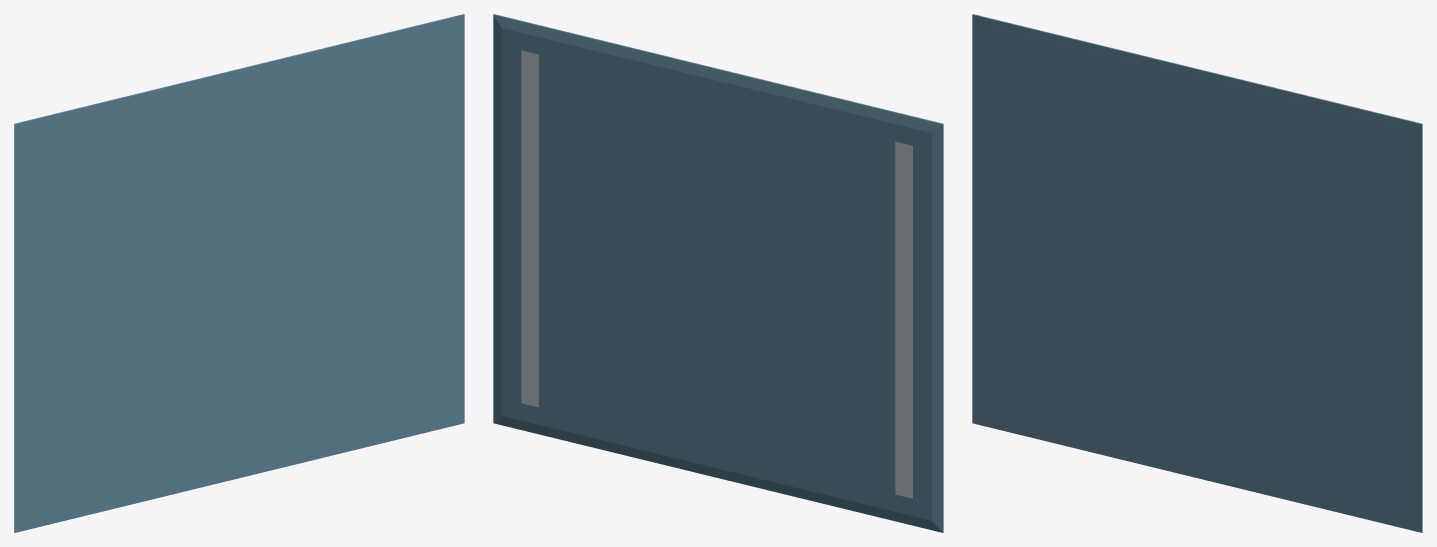
The model's file is Prop_mirror1.FBX.
3 renders of one model, left to right at view 1: azimuth 30°, elevation 25°; view 2: azimuth 150°, elevation 25°; view 3: azimuth 330°, elevation 25°, orthographic.
Visible parts, largest first — view 1: Mirror; view 2: Mirror; view 3: Mirror.
Boxes of the visible parts, x1,y1,x2,y2 form: Mirror: [14, 14, 464, 532]; Mirror: [493, 14, 943, 532]; Mirror: [972, 14, 1422, 532].
Size of the model in its own units: 61.09 by 0.441 by 53.04.
